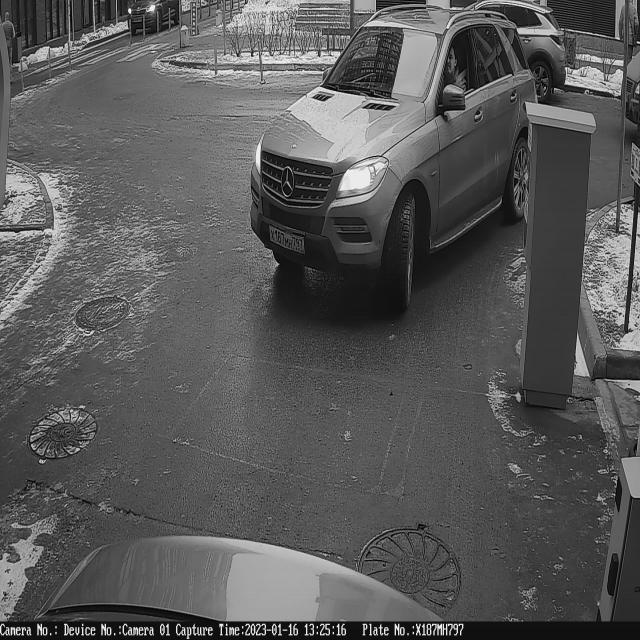car-plate-numbers: (267, 220, 307, 259)
